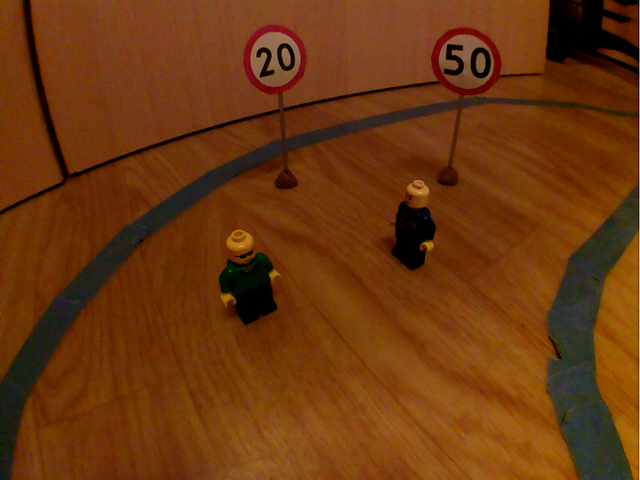Ograniczenie 20: (238, 20, 312, 99)
Ograniczenie 50: (427, 26, 506, 101)
Postac LEGO: (211, 223, 294, 337), (385, 177, 436, 280)
